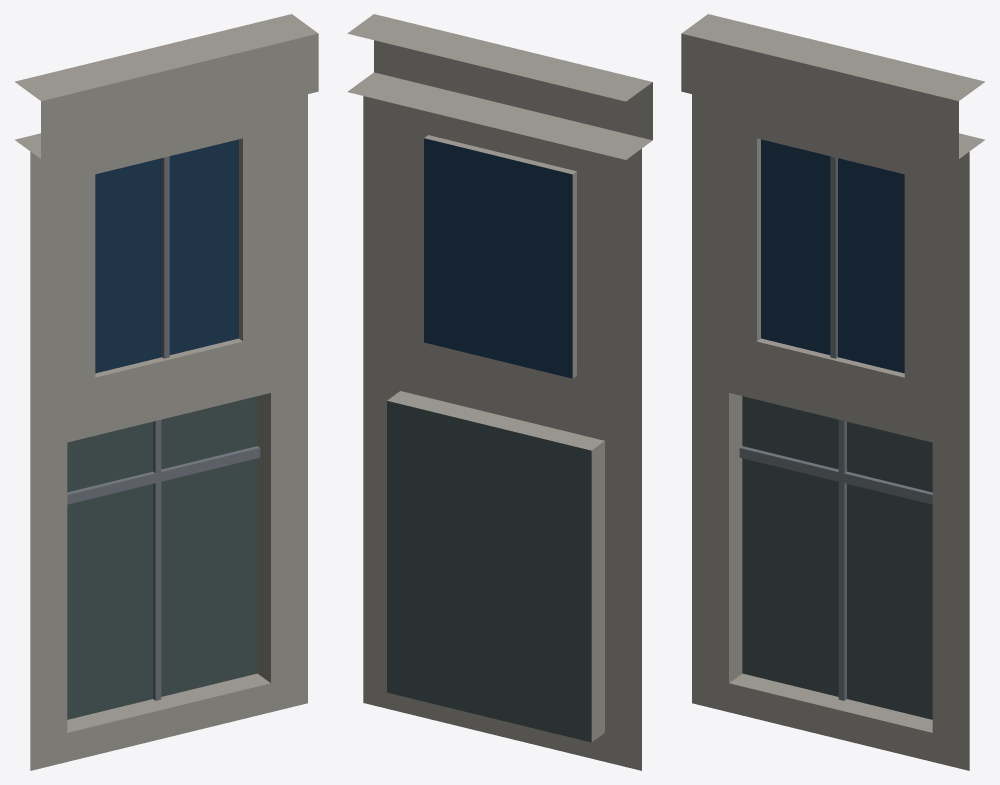
The picture shows the model from 3 angles, left to right: view 1: azimuth 30°, elevation 25°; view 2: azimuth 150°, elevation 25°; view 3: azimuth 330°, elevation 25°; orthographic projection.
Parts seen in each view (by area): view 1: a2012/600/base-w1; view 2: a2012/600/base-w1; view 3: a2012/600/base-w1.
Boxes of the visible parts, x1,y1,x2,y2 form: a2012/600/base-w1: [14, 14, 318, 770]; a2012/600/base-w1: [347, 14, 652, 770]; a2012/600/base-w1: [681, 14, 985, 770].
Bounding box in the file's own units: 3 × 7 × 0.5.
